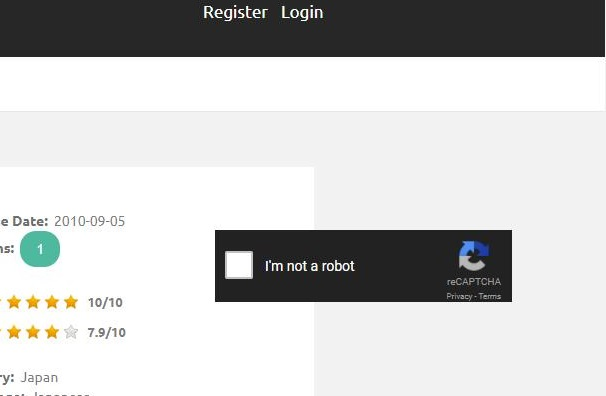captcha: (224, 250, 359, 279)
